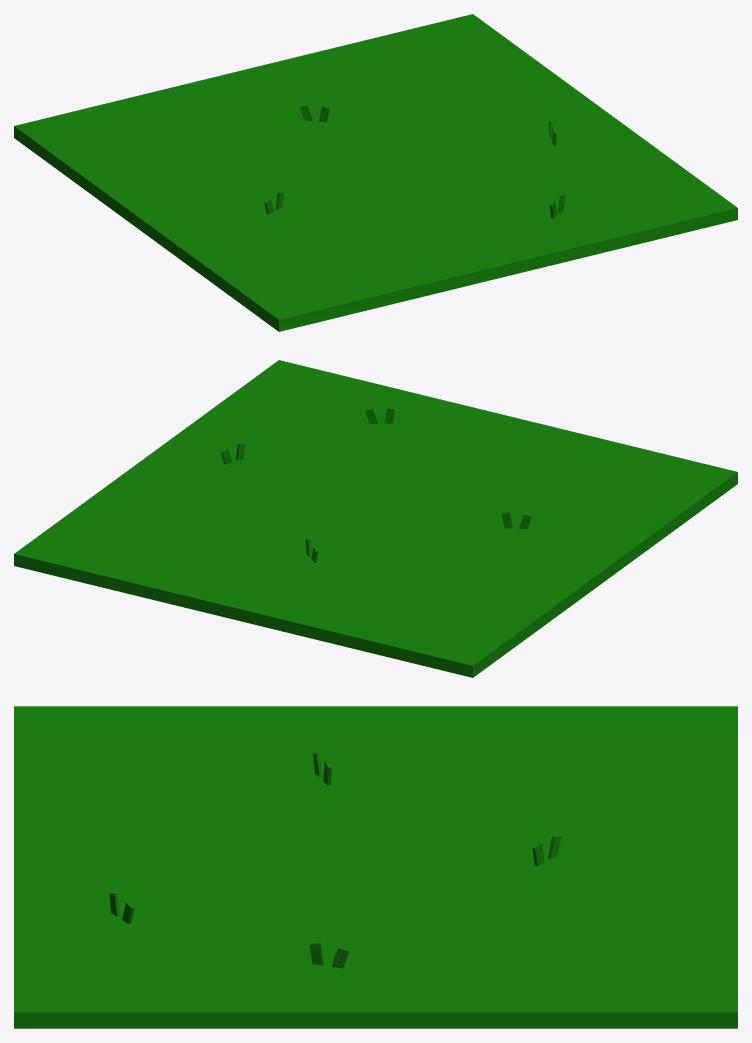
Rendered from Tile1x1GramaPlanta.fbx.
3 views of the same model, one above another, from view 1: azimuth 30°, elevation 25°; view 2: azimuth 150°, elevation 25°; view 3: azimuth 270°, elevation 25° (orthographic). The views are drawn at different scales.
Parts seen in each view (by area): view 1: Vege.grama; view 2: Vege.grama; view 3: Vege.grama.
Part boxes in pixels (box(x1,y1,x2,y2)): Vege.grama: box(14, 14, 737, 331); Vege.grama: box(14, 360, 737, 677); Vege.grama: box(14, 706, 737, 1028).
Bounding box in the file's own units: 400 × 22.9 × 400.
